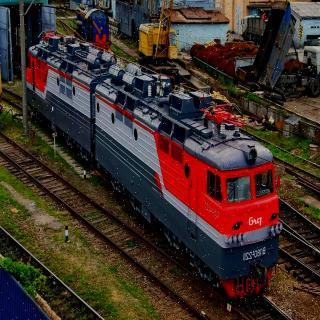poezd: (28, 35, 276, 299), (86, 12, 111, 46)
